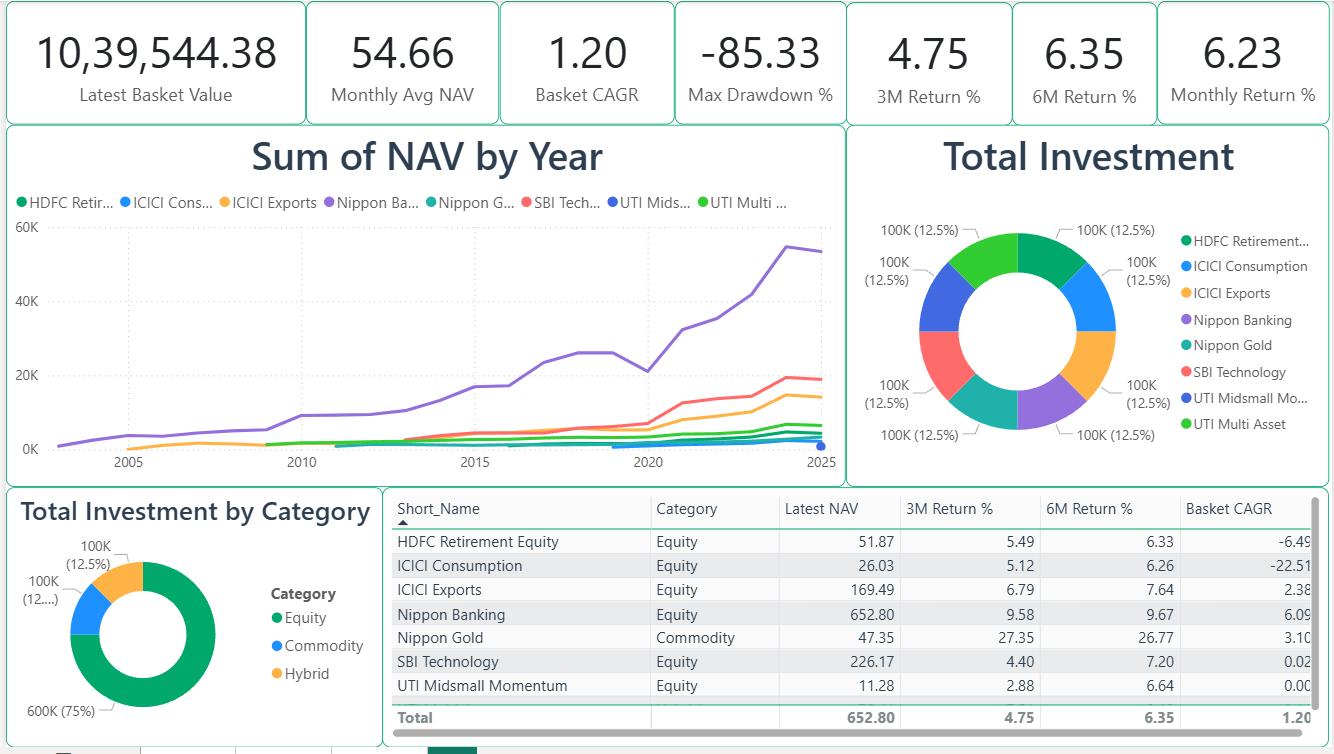

The dashboard page shown, as its layout file describes it:
{"tool":"powerbi","page":{"name":"Page 3","canvas":[1280,720],"ordinal":2},"visuals":[{"type":"card","fields":{"Values":["Fund_Master_Data.Latest Basket Value"]},"box":[0,0,289.5,119.4],"z":0},{"type":"card","fields":{"Values":["Fund_Master_Data.Monthly Avg NAV"]},"box":[289.5,0,186.6,119.4],"z":1000},{"type":"card","fields":{"Values":["Fund_Master_Data.Basket CAGR"]},"box":[476.2,0,168.8,119.4],"z":2000},{"type":"card","fields":{"Values":["Fund_Master_Data.Max Drawdown %"]},"box":[644.9,0,166,119.4],"z":3000},{"type":"card","fields":{"Values":["Fund_Master_Data.3M Return %"]},"box":[811,1.4,160.5,119.4],"z":4000},{"type":"card","fields":{"Values":["Fund_Master_Data.6M Return %"]},"box":[971.5,1.4,140,119.4],"z":5000},{"type":"card","fields":{"Values":["Fund_Master_Data.Monthly Return %"]},"box":[1111.5,0,166,119.4],"z":6000},{"type":"lineChart","title":"Sum of NAV by Year ","fields":{"Category":["Calendar.Date.Variation.Date Hierarchy.Year","Calendar.Date.Variation.Date Hierarchy.Quarter","Calendar.Date.Variation.Date Hierarchy.Month","Calendar.Date.Variation.Date Hierarchy.Day"],"Y":["Sum(MutualFund_NAV_Data_Combined.NAV)"],"Series":["Fund_Master_Data.Short_Name"]},"box":[0,119.4,810.7,349.9],"z":7000},{"type":"donutChart","title":"Total Investment ","fields":{"Category":["Fund_Master_Data.Short_Name"],"Y":["Fund_Master_Data.Total Investment"]},"box":[811,119.4,466.6,349.9],"z":8000},{"type":"donutChart","title":"Total Investment by Category","fields":{"Category":["Fund_Master_Data.Category"],"Y":["Fund_Master_Data.Total Investment"]},"box":[0,468.9,363.6,251.1],"z":9000},{"type":"tableEx","fields":{"Values":["Fund_Master_Data.Short_Name","Fund_Master_Data.Category","Fund_Master_Data.Latest NAV","Fund_Master_Data.3M Return %","Fund_Master_Data.6M Return %","Fund_Master_Data.Basket CAGR"]},"box":[363.6,468.9,913.9,251.1],"z":10000}]}

Visuals, with their boxes in screenshot pixels (x1, y1, x2, y2), scaled from the page's 1280x720 canvas onto the 1334x754 screenshot:
card - Fund_Master_Data.Latest Basket Value: bbox=(0, 0, 302, 125)
card - Fund_Master_Data.Monthly Avg NAV: bbox=(302, 0, 496, 125)
card - Fund_Master_Data.Basket CAGR: bbox=(496, 0, 672, 125)
card - Fund_Master_Data.Max Drawdown %: bbox=(672, 0, 845, 125)
card - Fund_Master_Data.3M Return %: bbox=(845, 1, 1012, 127)
card - Fund_Master_Data.6M Return %: bbox=(1012, 1, 1158, 127)
card - Fund_Master_Data.Monthly Return %: bbox=(1158, 0, 1331, 125)
"Sum of NAV by Year " lineChart: bbox=(0, 125, 845, 491)
"Total Investment " donutChart: bbox=(845, 125, 1331, 491)
"Total Investment by Category" donutChart: bbox=(0, 491, 379, 753)
tableEx - Fund_Master_Data.Short_Name x Fund_Master_Data.Category: bbox=(379, 491, 1331, 753)
